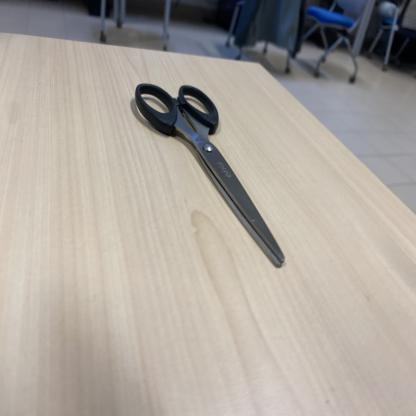scissors: (134, 83, 286, 268)
